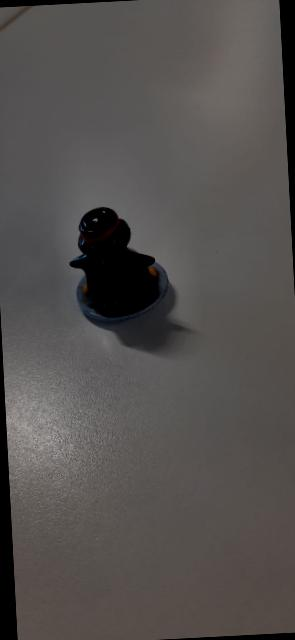Penguin: (66, 200, 172, 332)
